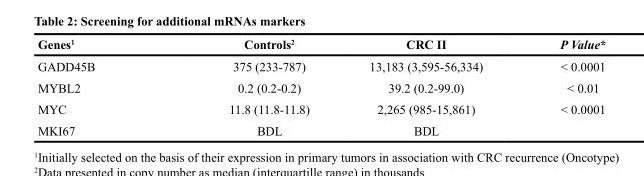table: (37, 36, 605, 137)
table column: (338, 36, 520, 137), (161, 36, 338, 137), (37, 36, 161, 137), (520, 36, 605, 137)
table column header: (37, 36, 605, 54)
table row: (37, 54, 605, 76), (37, 76, 605, 98), (37, 98, 605, 119), (37, 36, 605, 54), (37, 119, 605, 137)
